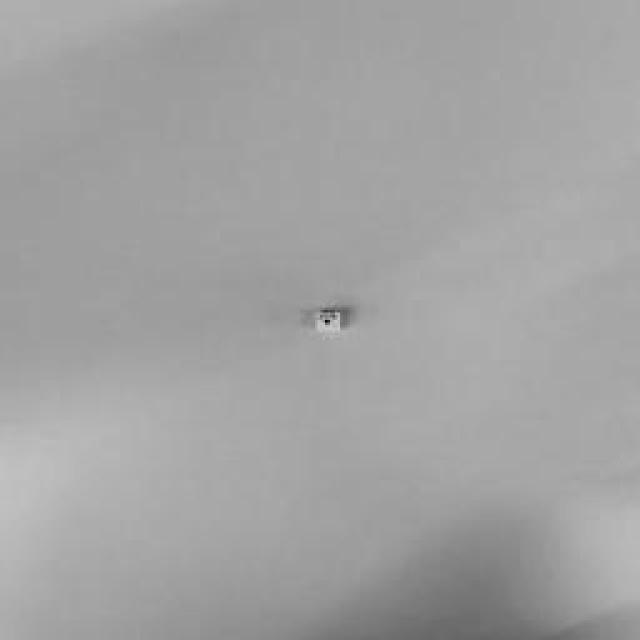dice_1: (315, 312, 340, 332)
